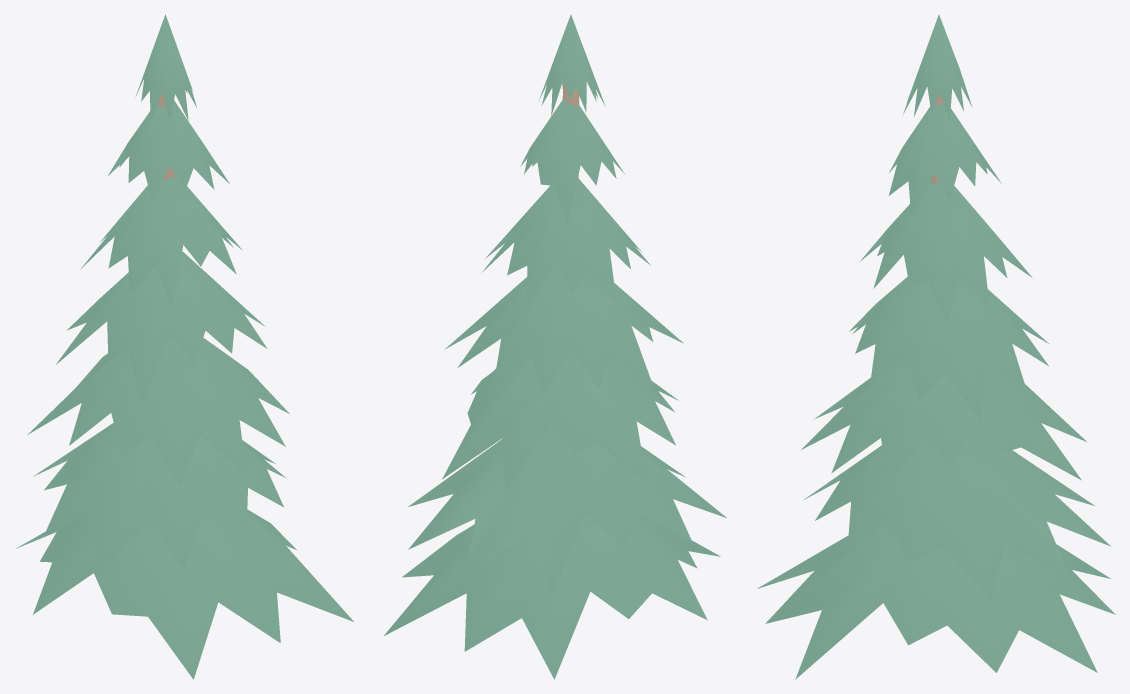
The model's file is Blender_Cedar_2_Far.glb.
3 views of the same model, side by side, from view 1: azimuth 30°, elevation 25°; view 2: azimuth 150°, elevation 25°; view 3: azimuth 270°, elevation 25° (orthographic). The views are drawn at different scales.
Visible parts, largest first — view 1: Blender_Cedar_2_Far; view 2: Blender_Cedar_2_Far; view 3: Blender_Cedar_2_Far.
Boxes of the visible parts, bbox=[...] form: Blender_Cedar_2_Far: bbox=[16, 14, 353, 679]; Blender_Cedar_2_Far: bbox=[384, 14, 726, 679]; Blender_Cedar_2_Far: bbox=[757, 14, 1115, 679].
Bounding box in the file's own units: 10.42 × 21.35 × 11.49.
